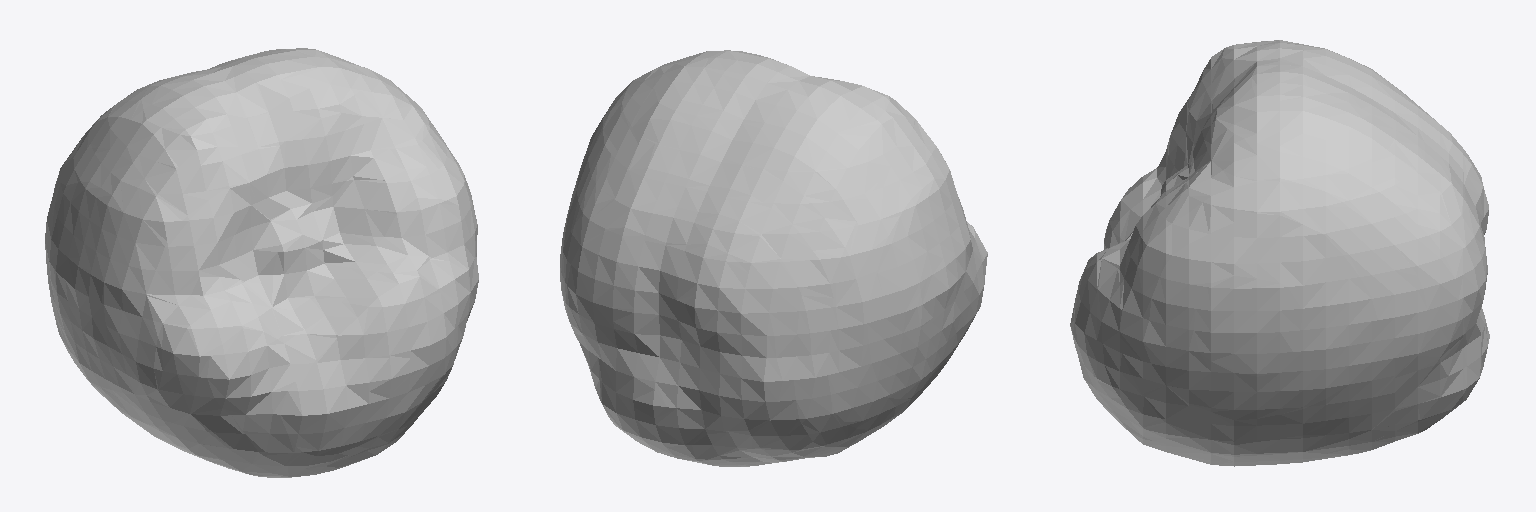
The model's file is yellow_pepper_MLabPrec5mmOffset5mm.obj.
3 renders of one model, left to right at view 1: azimuth 30°, elevation 25°; view 2: azimuth 150°, elevation 25°; view 3: azimuth 270°, elevation 25°, orthographic.
Size of the model in its own units: 0.0904 by 0.0903 by 0.0907.